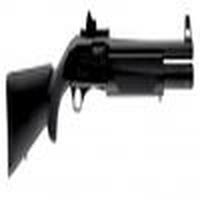gun: (10, 28, 197, 164)
